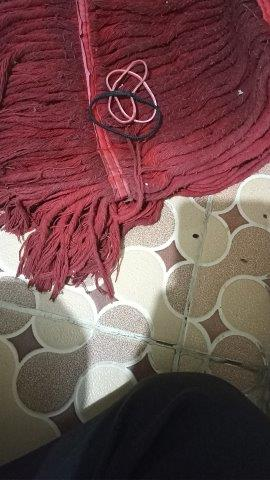karet: (87, 59, 162, 140)
